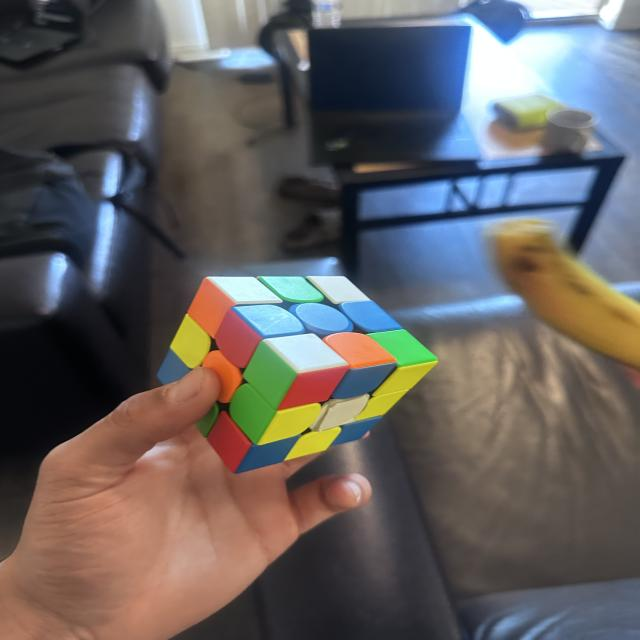sticker: (251, 333, 350, 413), (364, 328, 438, 394), (227, 303, 303, 361), (241, 339, 299, 410), (261, 332, 347, 378), (276, 362, 348, 412), (214, 308, 270, 370), (186, 278, 239, 340), (322, 330, 396, 373), (228, 382, 280, 442), (255, 399, 322, 445), (206, 411, 254, 473), (230, 432, 300, 474), (330, 360, 396, 401), (366, 362, 430, 404), (167, 314, 213, 371), (206, 274, 283, 306), (308, 393, 371, 432), (338, 299, 403, 336), (291, 301, 354, 339), (201, 349, 244, 404), (283, 426, 340, 461), (305, 275, 370, 305), (258, 275, 324, 304), (358, 387, 411, 420), (329, 416, 381, 447), (156, 351, 194, 388), (193, 400, 220, 438)
